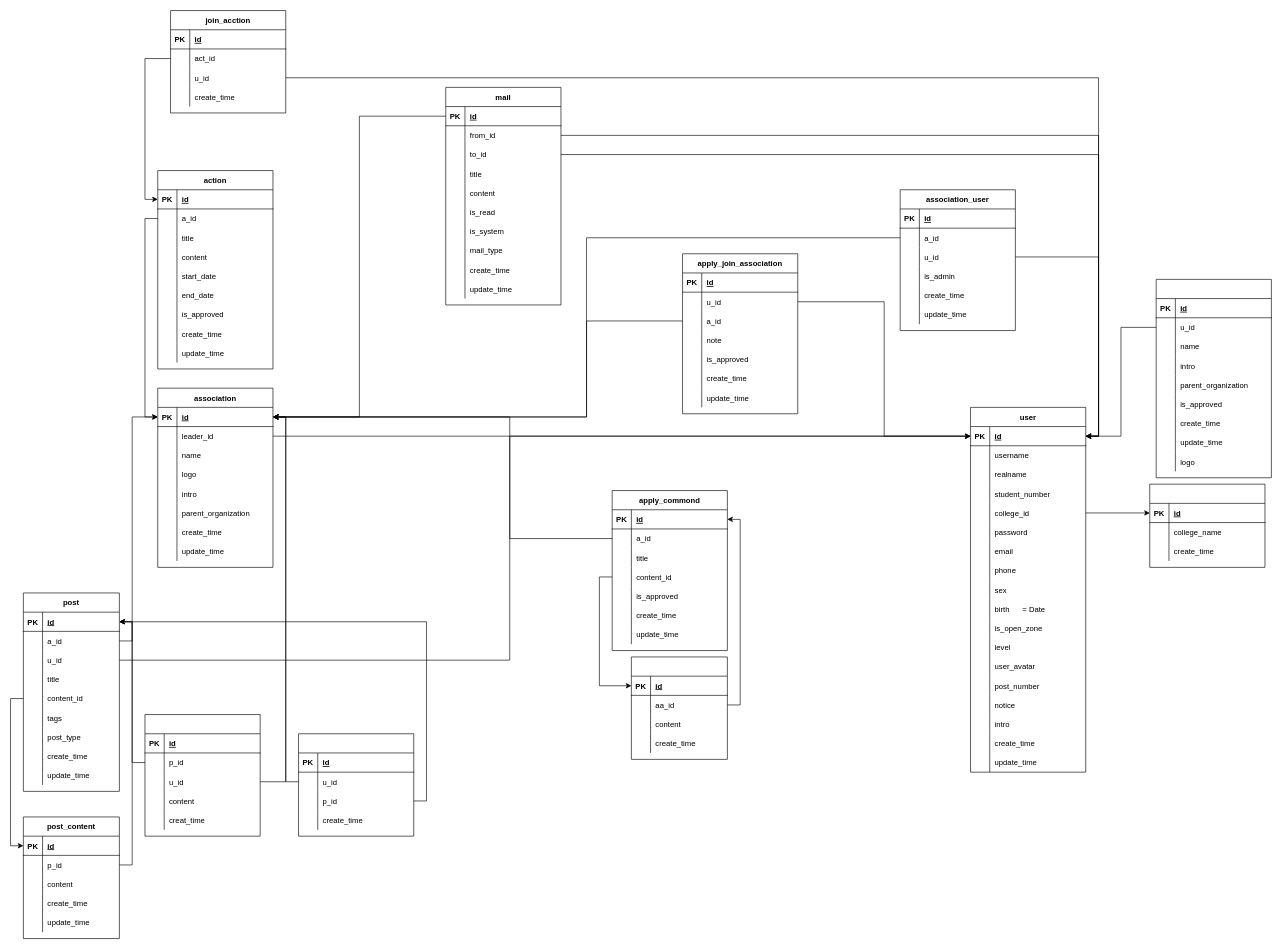
Some shapes in this 1282 by 949 pixel diagram are drawn without their labels. Each missing label, with the box of its shape:
apply_content: (631, 656, 727, 759)
apply_create: (1156, 279, 1271, 478)
college_table: (1149, 484, 1265, 567)
comment: (144, 714, 260, 836)
favorite_table: (298, 733, 414, 836)
